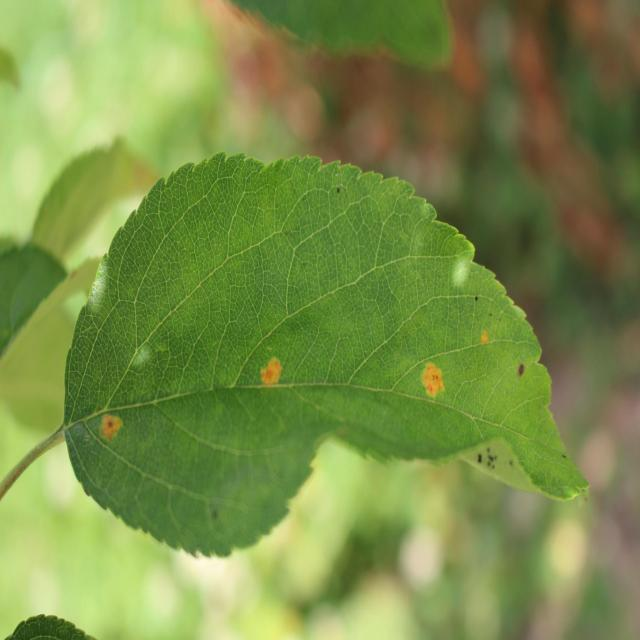Rust: (409, 352, 451, 412), (252, 350, 290, 396), (88, 414, 130, 446), (476, 318, 495, 352)
